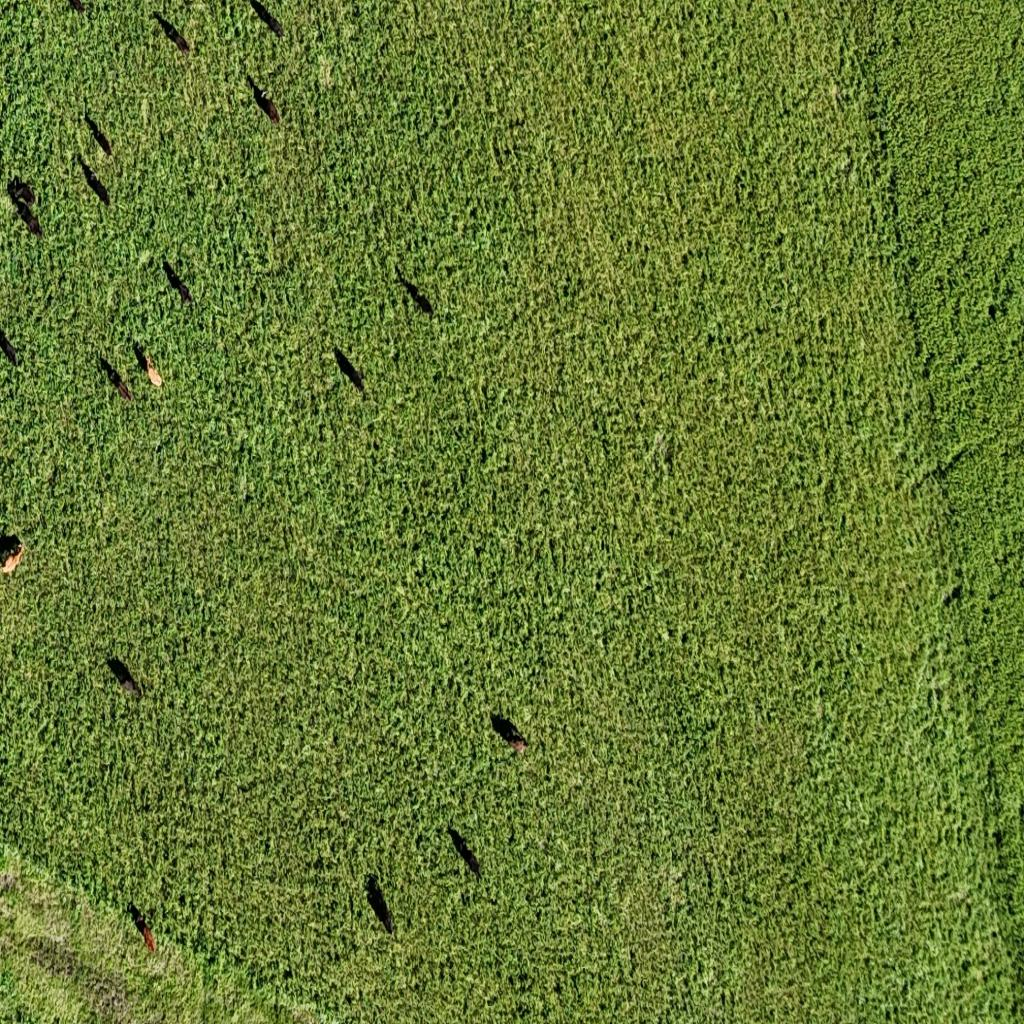cow: (6, 179, 42, 239), (59, 1, 109, 43), (245, 72, 281, 125), (365, 874, 395, 937), (397, 270, 435, 319), (450, 826, 483, 882), (107, 656, 143, 702), (490, 711, 528, 754), (100, 356, 134, 404), (334, 347, 367, 396), (126, 903, 156, 955), (154, 12, 191, 54), (78, 158, 109, 208), (245, 0, 284, 39), (84, 109, 114, 158), (163, 260, 193, 307), (135, 341, 163, 387), (1, 528, 27, 576), (0, 322, 20, 368), (66, 0, 88, 18)
